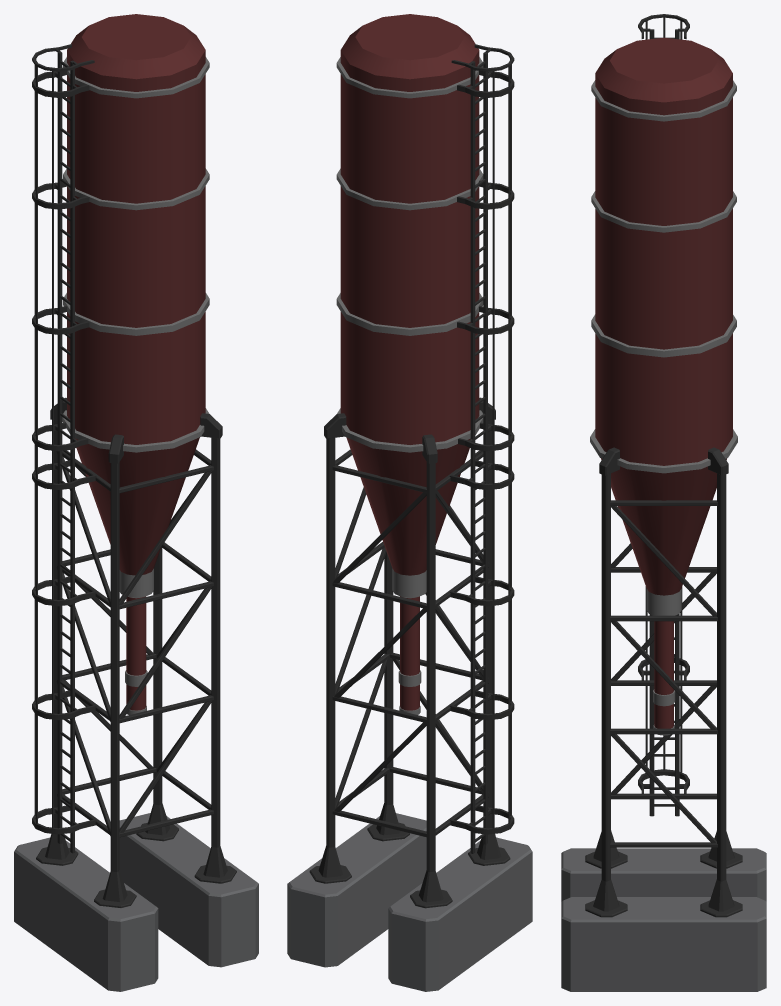
The model's file is farmstractures_24.glb.
3 views of the same model, side by side, from view 1: azimuth 30°, elevation 25°; view 2: azimuth 150°, elevation 25°; view 3: azimuth 270°, elevation 25° (orthographic).
Parts seen in each view (by area): view 1: farmstractures_24; view 2: farmstractures_24; view 3: farmstractures_24.
Boxes of the visible parts, x1,y1,x2,y2 form: farmstractures_24: (14, 14, 258, 991); farmstractures_24: (287, 14, 532, 991); farmstractures_24: (561, 14, 766, 991).
Size of the model in its own units: 2.93 by 14.32 by 2.98.
1 material, 1 textured.
